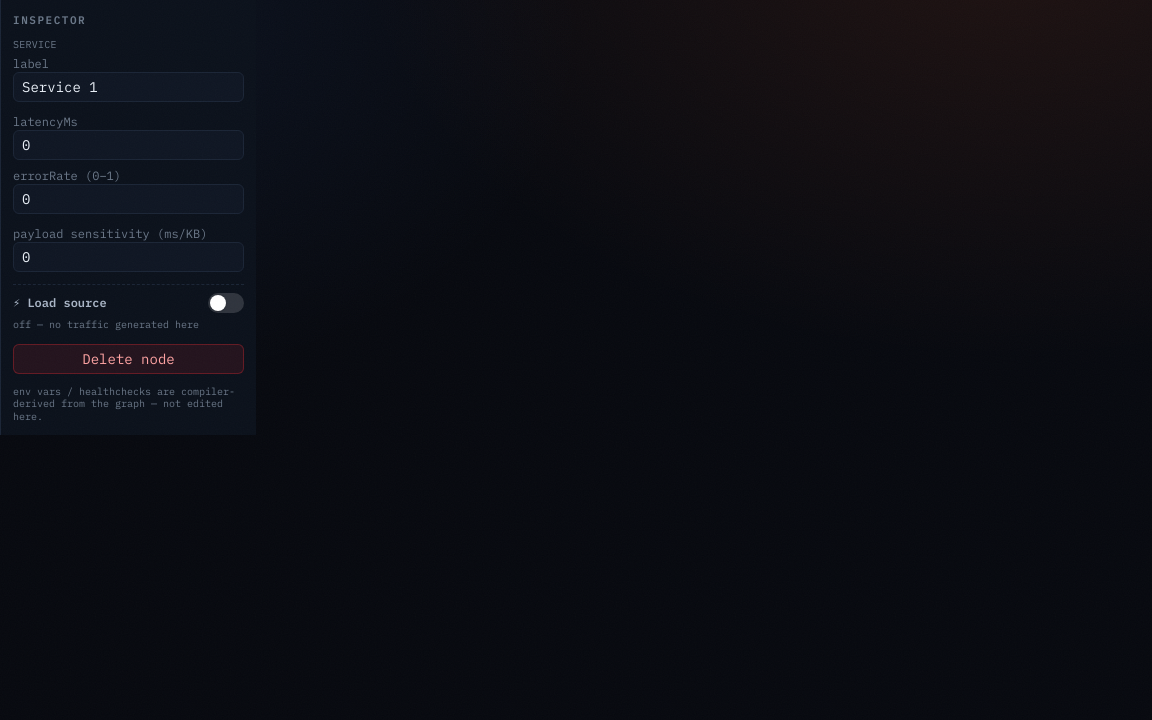
Test: Inspector › shows the load toggle on a service and adds loadRate when turned on
What coordinates should you click on to do the following:
click the button named "load source"
I would click on:
 (226, 302)
Its box is [208,292,244,312].
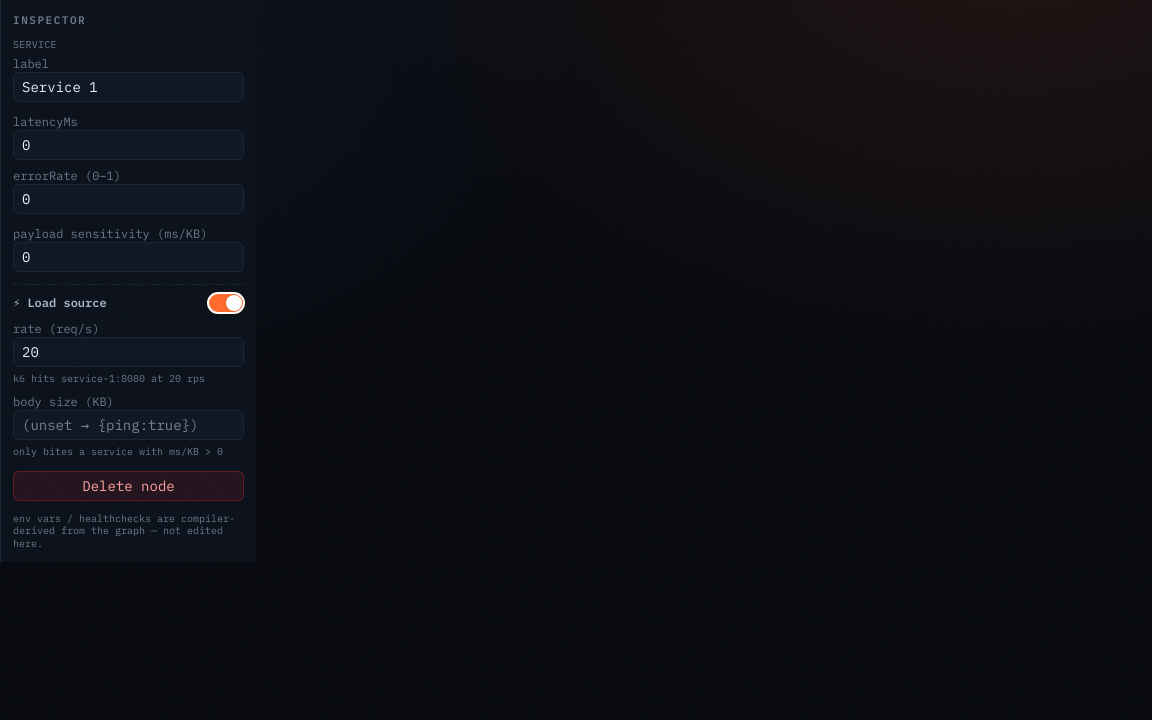
Now the number field labelled "rate" is shown, box [13,336,244,366]
